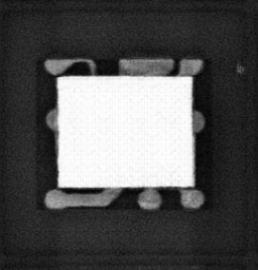DIE_INK: (236, 62, 245, 75)
